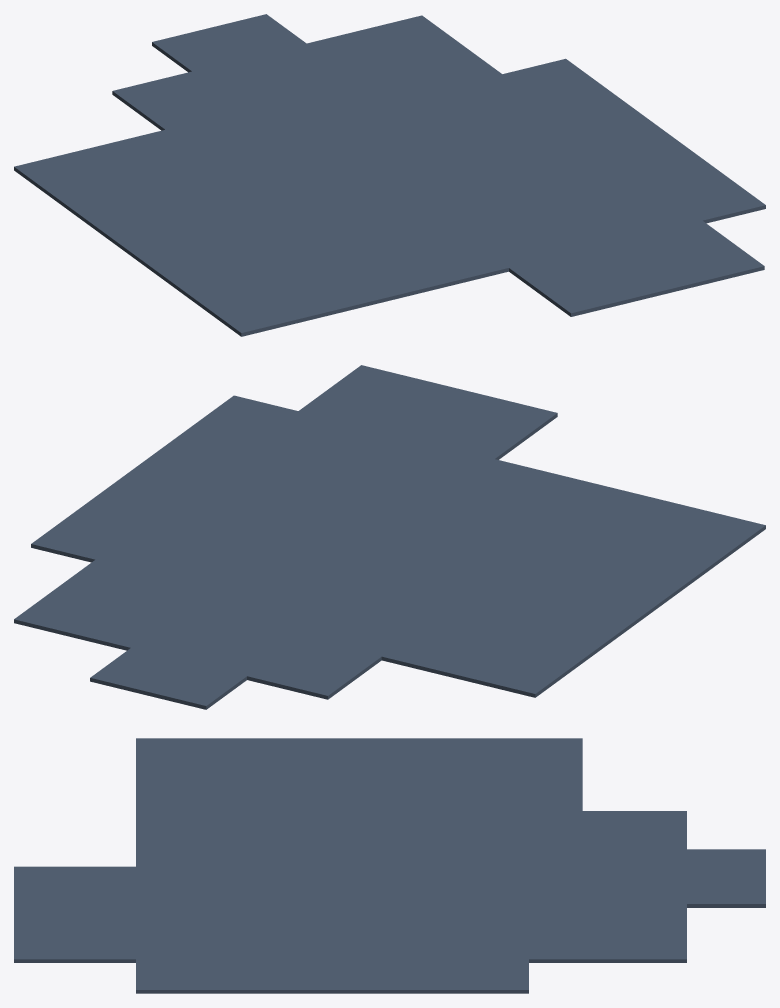
File: floor_geometry.obj
3 renders of one model, top to bottom at view 1: azimuth 30°, elevation 25°; view 2: azimuth 150°, elevation 25°; view 3: azimuth 270°, elevation 25°, orthographic. The views are drawn at different scales.
Visible parts, largest first — view 1: Floor_003_u_chamber_6_kamera_6_avtonomnyy_modul_floor, Floor_002_u_chamber_6_tehnicheskaya_galereya_floor, Floor_013_u_chamber_6_gruzovoy_germoshlyuz_floor, Floor_004_u_chamber_6_lokalnyy_post_floor, Floor_010_u_chamber_6_glavnyy_shlyuz_floor, Floor_016_u_chamber_6_avariynaya_floor, Floor_007_u_chamber_6_passazhirskiy_floor, Floor_001_u_chamber_6_sluzhebnyy_dostup_floor; view 2: Floor_003_u_chamber_6_kamera_6_avtonomnyy_modul_floor, Floor_002_u_chamber_6_tehnicheskaya_galereya_floor, Floor_013_u_chamber_6_gruzovoy_germoshlyuz_floor, Floor_004_u_chamber_6_lokalnyy_post_floor, Floor_010_u_chamber_6_glavnyy_shlyuz_floor, Floor_016_u_chamber_6_avariynaya_floor, Floor_001_u_chamber_6_sluzhebnyy_dostup_floor, Floor_007_u_chamber_6_passazhirskiy_floor; view 3: Floor_003_u_chamber_6_kamera_6_avtonomnyy_modul_floor, Floor_002_u_chamber_6_tehnicheskaya_galereya_floor, Floor_013_u_chamber_6_gruzovoy_germoshlyuz_floor, Floor_004_u_chamber_6_lokalnyy_post_floor, Floor_010_u_chamber_6_glavnyy_shlyuz_floor, Floor_016_u_chamber_6_avariynaya_floor, Floor_007_u_chamber_6_passazhirskiy_floor, Floor_001_u_chamber_6_sluzhebnyy_dostup_floor, Floor_017_u_chamber_6_avariynaya_floor, Floor_014_u_chamber_6_gruzovoy_germoshlyuz_floor.
Part boxes in pixels (box(x1,y1,x2,y2)): Floor_003_u_chamber_6_kamera_6_avtonomnyy_modul_floor: box(116, 58, 765, 318); Floor_002_u_chamber_6_tehnicheskaya_galereya_floor: box(41, 168, 316, 336); Floor_013_u_chamber_6_gruzovoy_germoshlyuz_floor: box(512, 221, 761, 316); Floor_004_u_chamber_6_lokalnyy_post_floor: box(112, 63, 305, 149); Floor_010_u_chamber_6_glavnyy_shlyuz_floor: box(231, 36, 414, 120); Floor_016_u_chamber_6_avariynaya_floor: box(341, 16, 499, 93); Floor_007_u_chamber_6_passazhirskiy_floor: box(155, 14, 303, 70); Floor_001_u_chamber_6_sluzhebnyy_dostup_floor: box(14, 129, 192, 189); Floor_003_u_chamber_6_kamera_6_avtonomnyy_modul_floor: box(31, 395, 689, 654); Floor_002_u_chamber_6_tehnicheskaya_galereya_floor: box(487, 507, 765, 677); Floor_013_u_chamber_6_gruzovoy_germoshlyuz_floor: box(301, 365, 554, 458); Floor_004_u_chamber_6_lokalnyy_post_floor: box(213, 608, 408, 699); Floor_010_u_chamber_6_glavnyy_shlyuz_floor: box(102, 581, 288, 666); Floor_016_u_chamber_6_avariynaya_floor: box(16, 560, 177, 643); Floor_001_u_chamber_6_sluzhebnyy_dostup_floor: box(381, 636, 562, 697); Floor_007_u_chamber_6_passazhirskiy_floor: box(93, 648, 243, 709); Floor_003_u_chamber_6_kamera_6_avtonomnyy_modul_floor: box(136, 774, 528, 993); Floor_002_u_chamber_6_tehnicheskaya_galereya_floor: box(136, 738, 528, 774); Floor_013_u_chamber_6_gruzovoy_germoshlyuz_floor: box(14, 868, 135, 957); Floor_004_u_chamber_6_lokalnyy_post_floor: box(529, 811, 686, 865); Floor_010_u_chamber_6_glavnyy_shlyuz_floor: box(529, 868, 686, 917); Floor_016_u_chamber_6_avariynaya_floor: box(529, 920, 686, 957); Floor_007_u_chamber_6_passazhirskiy_floor: box(687, 850, 765, 902); Floor_001_u_chamber_6_sluzhebnyy_dostup_floor: box(529, 738, 582, 810); Floor_017_u_chamber_6_avariynaya_floor: box(529, 958, 686, 962); Floor_014_u_chamber_6_gruzovoy_germoshlyuz_floor: box(14, 958, 135, 962).
Bounding box in the file's own units: 29.04 × 0.2 × 36.7.
